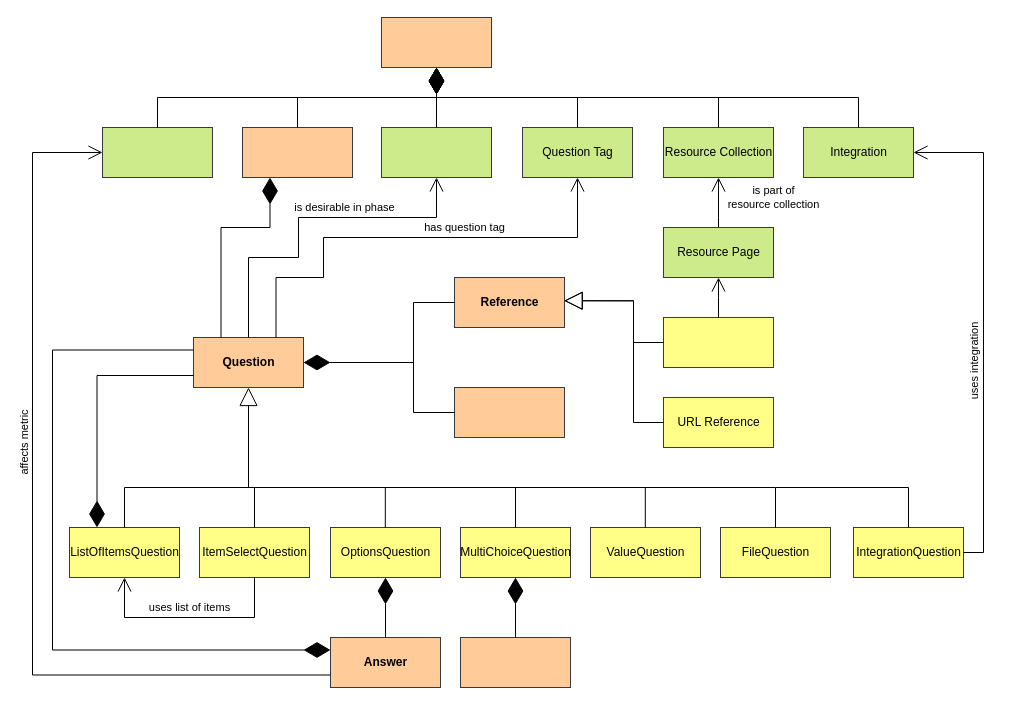
The diagram is 1015 pixels wide and 707 high, and some of its shapes have lost their labels. The centre of each missing label's shape, as x and y in pixels:
"Chapter" belongs at (297,152).
"Choice" belongs at (515,662).
"Expert" belongs at (509,412).
"Knowledge Model" belongs at (436,42).
"Metric" belongs at (157,152).
"Phase" belongs at (436,152).
"Resource Page Reference" belongs at (718,342).
